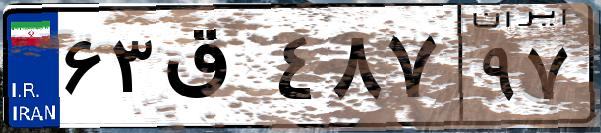3: (110, 28, 158, 98)
4: (270, 28, 330, 110)
6: (57, 26, 110, 100)
7: (385, 28, 445, 110), (525, 38, 570, 115)
8: (330, 28, 385, 110)
9: (475, 38, 525, 113)
ق: (158, 20, 270, 120)
